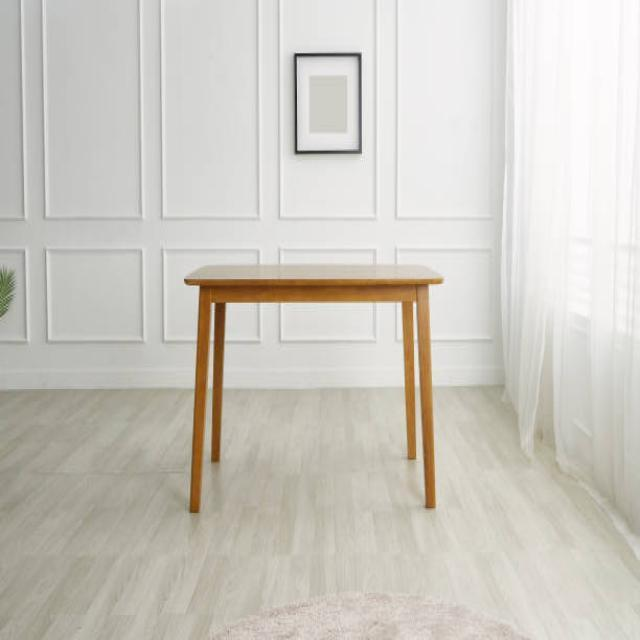table: (182, 262, 444, 513)
